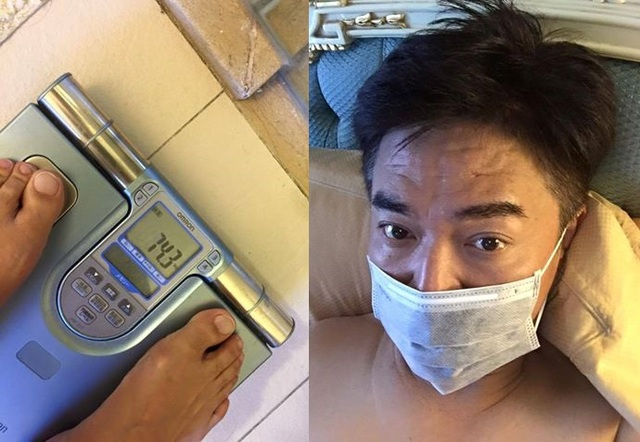mask: (368, 257, 541, 398)
